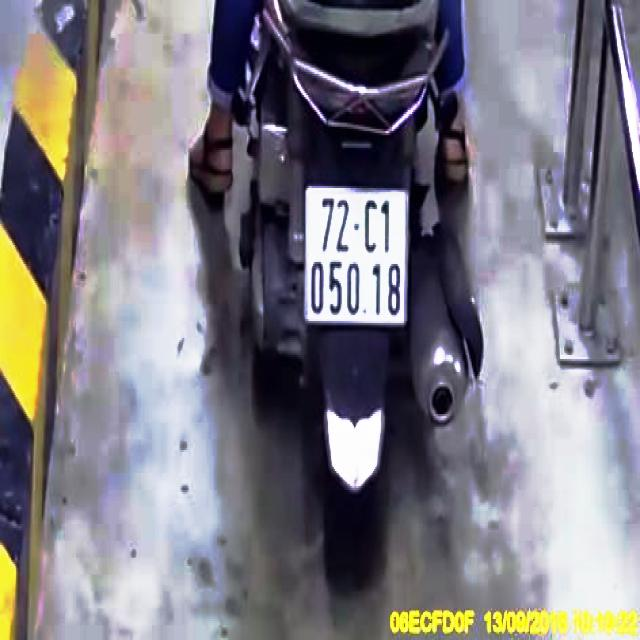license_plate: (308, 188, 410, 323)
